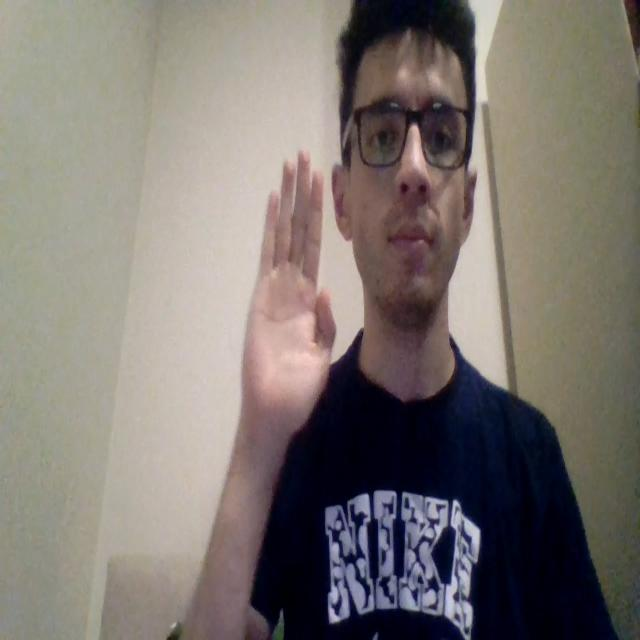hello: (238, 148, 337, 460)
